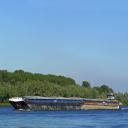tugboat: (101, 91, 124, 112)
